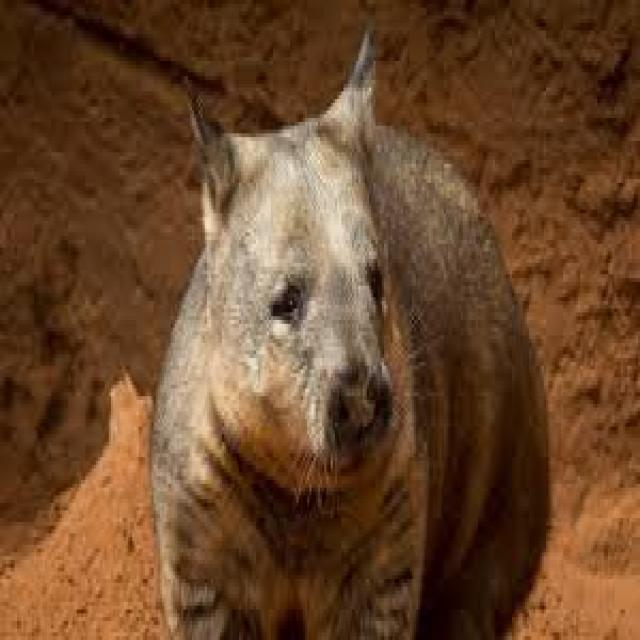Wombat: (145, 23, 555, 640)
